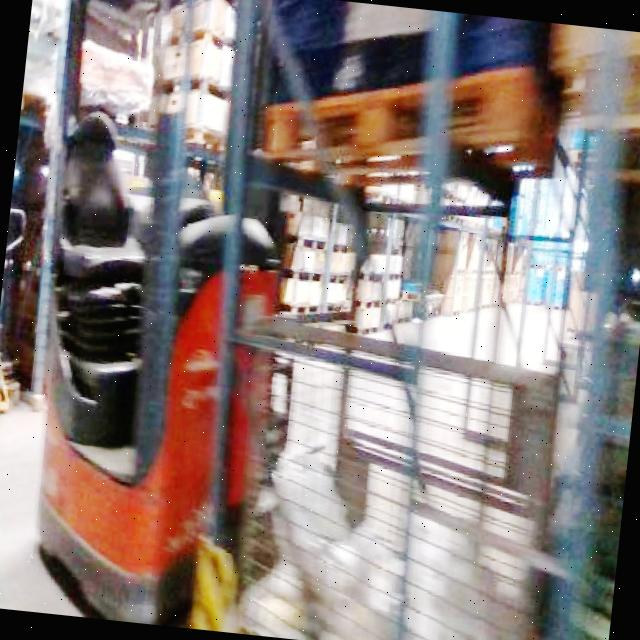ground: (0, 244, 640, 640)
pallet: (218, 310, 585, 640), (236, 34, 566, 354), (255, 36, 565, 190), (142, 0, 242, 151), (0, 199, 40, 438), (0, 344, 26, 435)
